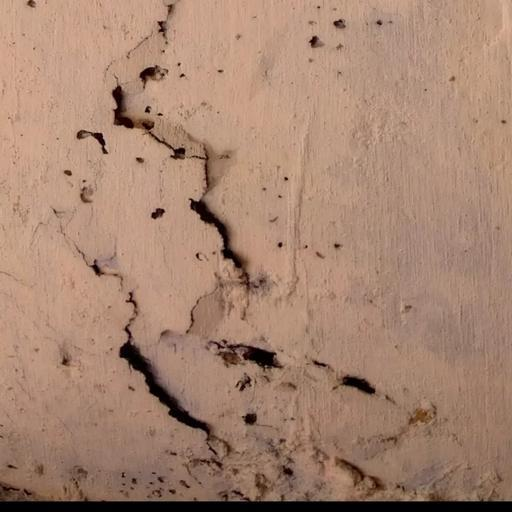major_crack: (59, 35, 376, 470)
